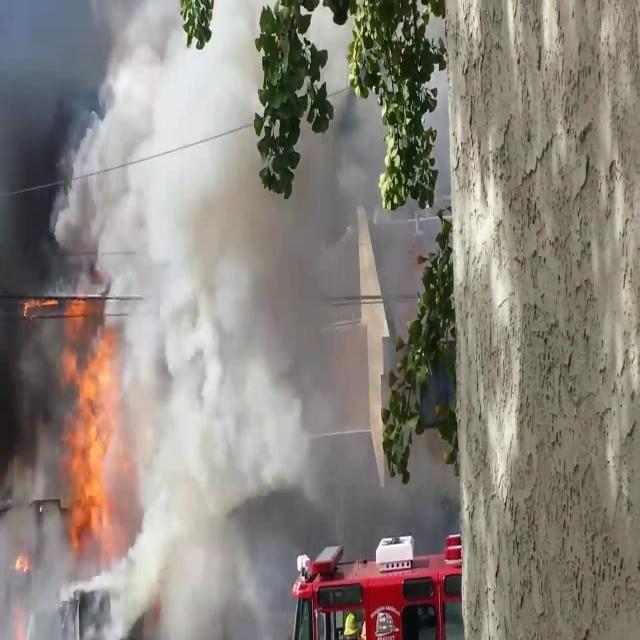Fire: (50, 303, 130, 565)
Smoke: (0, 2, 389, 610), (458, 1, 640, 500)
